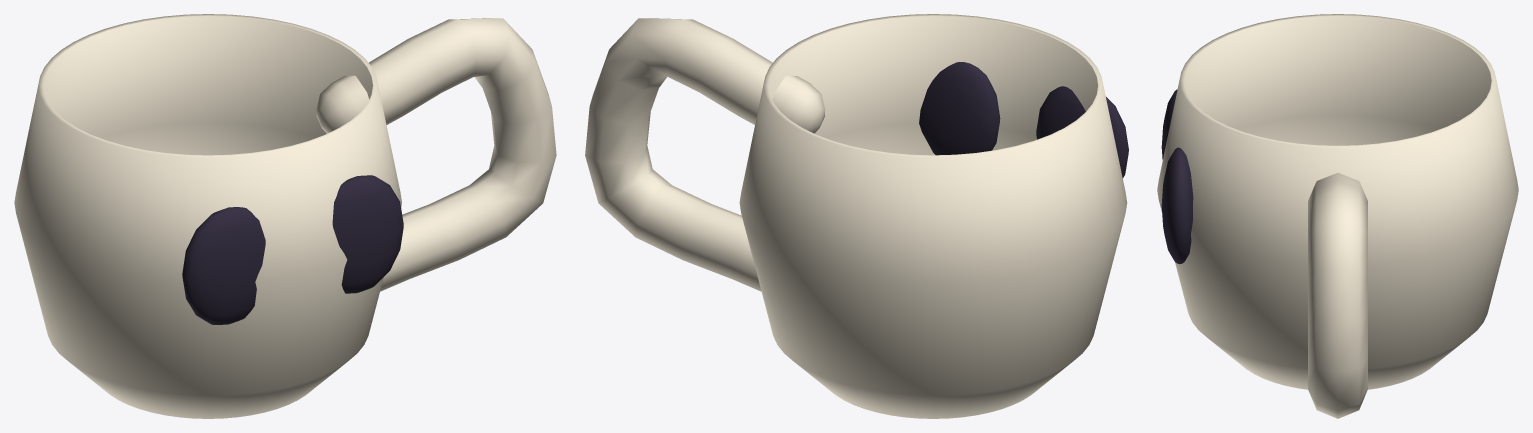
The model's file is skull_mug.glb.
3 views of the same model, side by side, from view 1: azimuth 30°, elevation 25°; view 2: azimuth 150°, elevation 25°; view 3: azimuth 270°, elevation 25° (orthographic). The views are drawn at different scales.
Visible parts, largest first — view 1: Skull_ceramic, Handle, Eye_socket, Eye_socket.001; view 2: Skull_ceramic, Handle, Eye_socket.001, Eye_socket; view 3: Skull_ceramic, Handle, Eye_socket.001, Eye_socket.
Boxes of the visible parts, x1,y1,x2,y2 form: Skull_ceramic: (14, 14, 401, 418); Handle: (316, 18, 556, 291); Eye_socket: (182, 207, 265, 324); Eye_socket.001: (332, 175, 403, 293); Skull_ceramic: (739, 14, 1127, 418); Handle: (585, 18, 825, 291); Eye_socket.001: (919, 62, 1000, 155); Eye_socket: (1036, 86, 1128, 178); Skull_ceramic: (1157, 14, 1518, 389); Handle: (1308, 173, 1367, 418); Eye_socket.001: (1161, 147, 1193, 264); Eye_socket: (1161, 89, 1177, 159).
Bounding box in the file's own units: 0.3667 × 0.2034 × 0.24.
